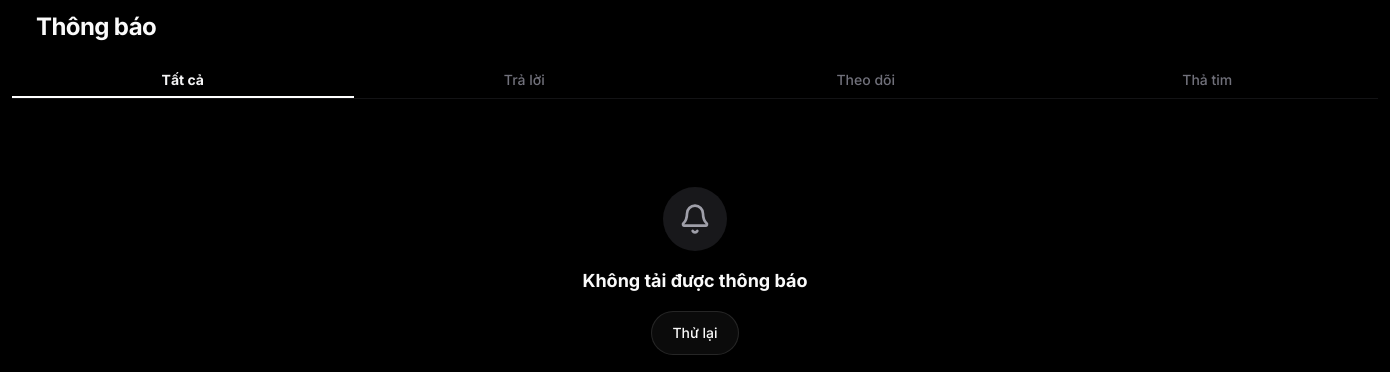
real mode › tabs › shows a skeleton while the first page loads & an error with retry (not the empty state) on failure
Expected: the heading "Không tải được thông báo" is shown, [582,267,808,295]
Click the button "Thử lại". click: [695, 333]
box: [651,311,739,355]
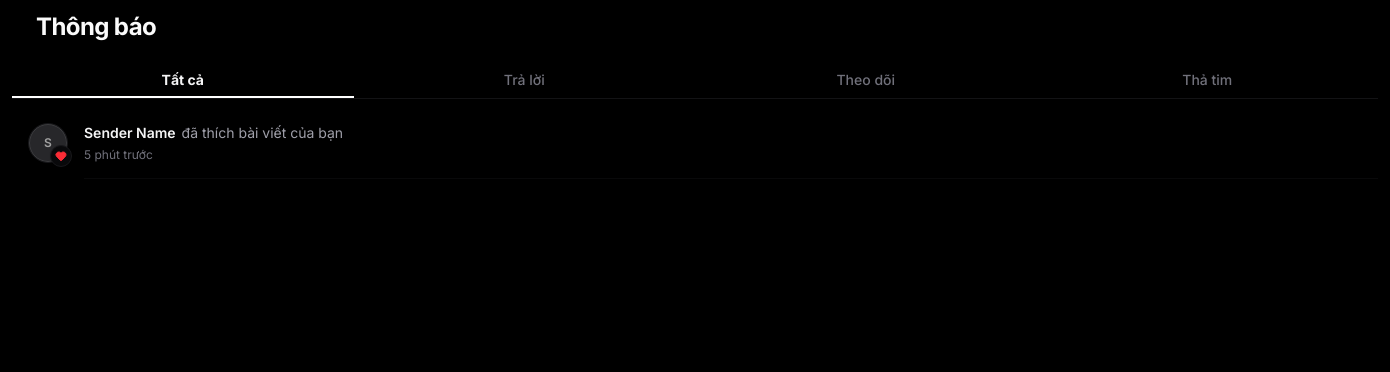
Result: the text "đã thích bài viết của bạn" is shown at [182,124,343,141]
